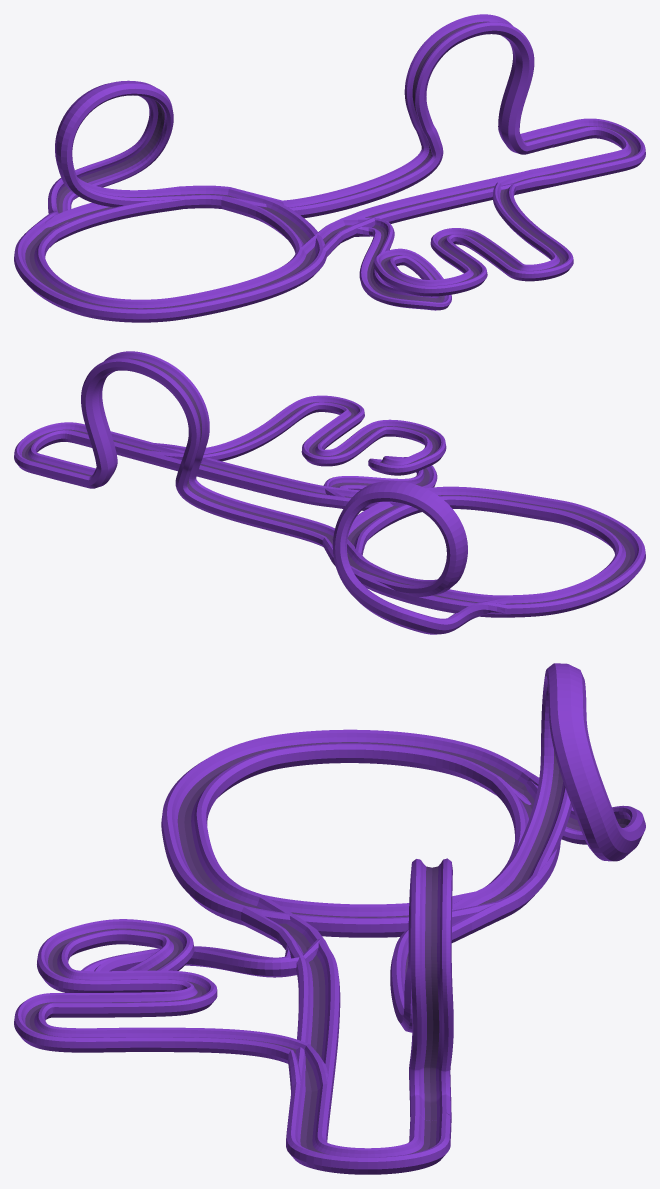
Rendered from upgrade3 (3).fbx.
3 renders of one model, top to bottom at view 1: azimuth 30°, elevation 25°; view 2: azimuth 150°, elevation 25°; view 3: azimuth 270°, elevation 25°, orthographic. The views are drawn at different scales.
Parts seen in each view (by area): view 1: upgrade2, UPGRADE3, maintrack1, upgrade1, degrade3, degrade2, part2.001; view 2: upgrade2, UPGRADE3, maintrack1, upgrade1, degrade3, part2.001, degrade2; view 3: UPGRADE3, upgrade2, maintrack1, upgrade1, degrade3, degrade2, part2.001.
Boxes of the visible parts, x1,y1,x2,y2 form: upgrade2: (223, 14, 645, 256); UPGRADE3: (342, 167, 573, 310); maintrack1: (14, 185, 326, 322); upgrade1: (34, 80, 183, 233); degrade3: (341, 172, 549, 228); degrade2: (221, 187, 324, 254); part2.001: (45, 196, 185, 242); upgrade2: (14, 351, 404, 560); UPGRADE3: (143, 395, 446, 497); maintrack1: (331, 486, 645, 617); upgrade1: (332, 481, 508, 634); degrade3: (141, 444, 351, 508); part2.001: (357, 572, 508, 617); degrade2: (347, 501, 421, 558); UPGRADE3: (14, 919, 327, 1092); upgrade2: (241, 858, 502, 1174); maintrack1: (161, 729, 542, 925); upgrade1: (500, 663, 645, 882); degrade3: (287, 938, 340, 1092); degrade2: (244, 891, 497, 937); part2.001: (491, 777, 560, 886).
Bounding box in the file's own units: 2177 × 570 × 1344.
